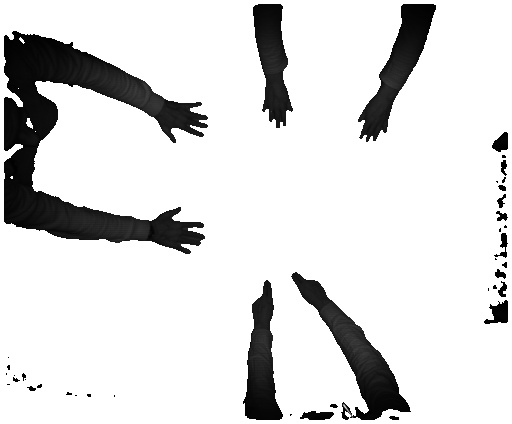hand: (154, 202, 207, 255), (161, 100, 207, 143), (352, 98, 393, 143), (256, 82, 295, 127), (248, 280, 279, 325), (288, 272, 330, 305)
